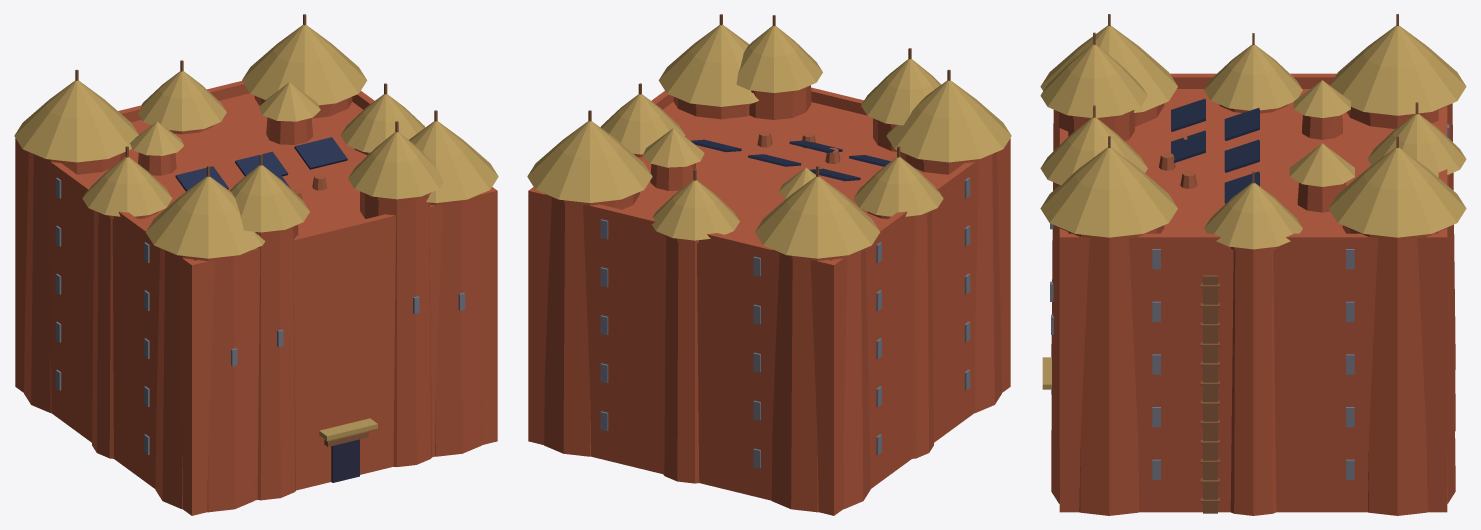
File: house-2x2-5f-tata-a-solar.glb
The picture shows the model from 3 angles, left to right: view 1: azimuth 30°, elevation 25°; view 2: azimuth 150°, elevation 25°; view 3: azimuth 270°, elevation 25°; orthographic projection. The views are drawn at different scales.
Parts seen in each view (by area): view 1: house-2x2-5f-tata-a-solar; view 2: house-2x2-5f-tata-a-solar; view 3: house-2x2-5f-tata-a-solar.
Boxes of the visible parts, left/top/right/bottom form: house-2x2-5f-tata-a-solar: left=14, top=14, right=498, bottom=515; house-2x2-5f-tata-a-solar: left=527, top=14, right=1011, bottom=515; house-2x2-5f-tata-a-solar: left=1040, top=14, right=1466, bottom=515.
Size of the model in its own units: 1.98 by 1.85 by 1.98.
Materials: 1 (1 with a texture image).
